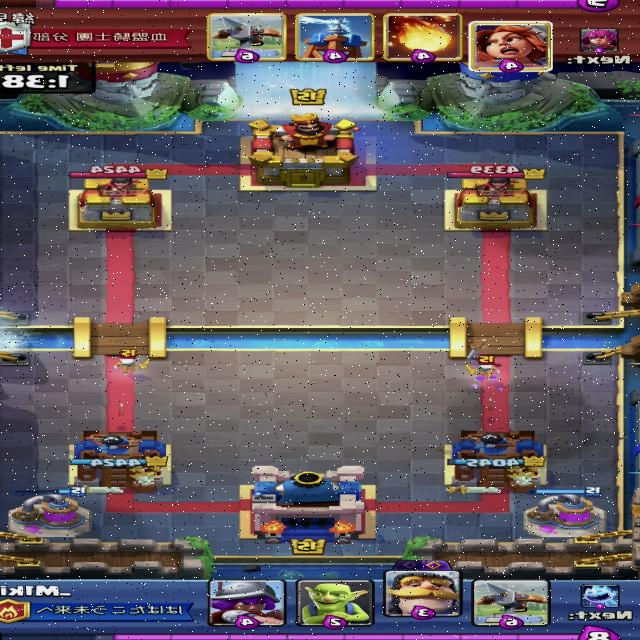Enemy-Skeleton: (463, 354, 502, 382), (112, 349, 150, 376)
Player-ElixirPump: (520, 487, 610, 540), (4, 486, 93, 539)
